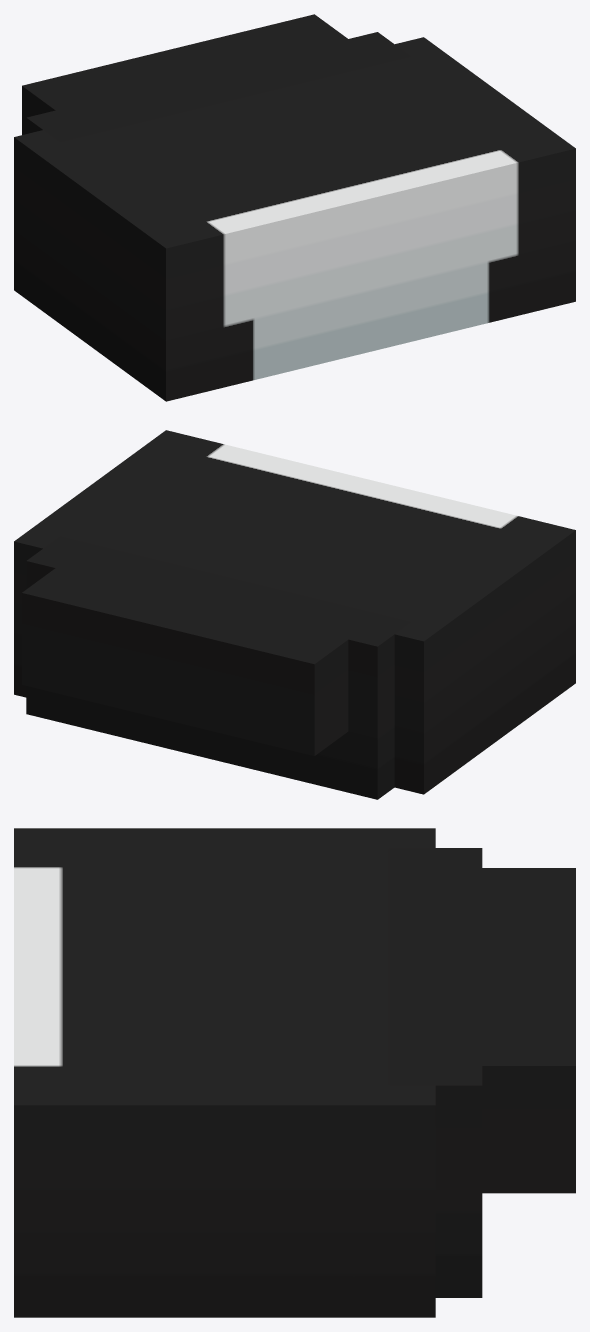
The picture shows the model from 3 angles, top to bottom: view 1: azimuth 30°, elevation 25°; view 2: azimuth 150°, elevation 25°; view 3: azimuth 270°, elevation 25°; orthographic projection. The views are drawn at different scales.
Visible parts, largest first — view 1: Root059; view 2: Root059; view 3: Root059.
Part boxes in pixels (x1,y1,x2,y2): Root059: [14, 14, 575, 401]; Root059: [14, 430, 575, 799]; Root059: [14, 828, 575, 1317].
Bounding box in the file's own units: 14 × 5 × 12.
